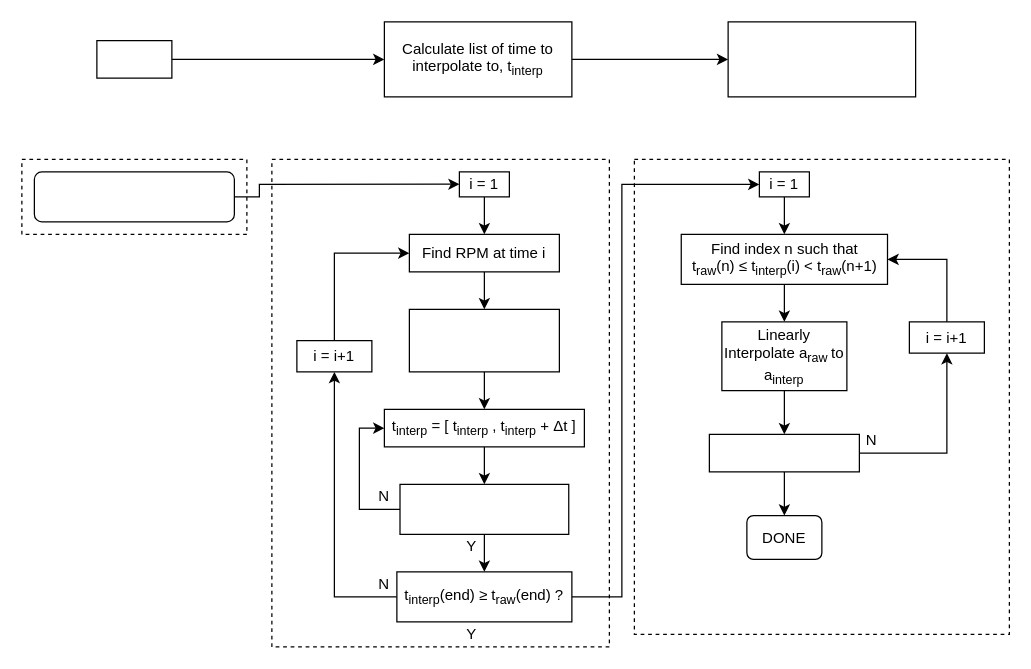
This 1031x669 diagram has some shape labels left out. Here are the shapes that lost their labels. From the top down, the box of each, then its label:
(96, 39, 172, 78): Start
(727, 21, 916, 97): Interpolate data from time t raw to t interp
(33, 171, 234, 222): Acceleration Vector a raw Time Vector t raw
(408, 308, 559, 372): Calculate Δ t for constant angle-step datapoint
(708, 433, 859, 472): i = length(t interp )?
(399, 483, 569, 534): t interp (end) ≥ t raw (i+1) ?
